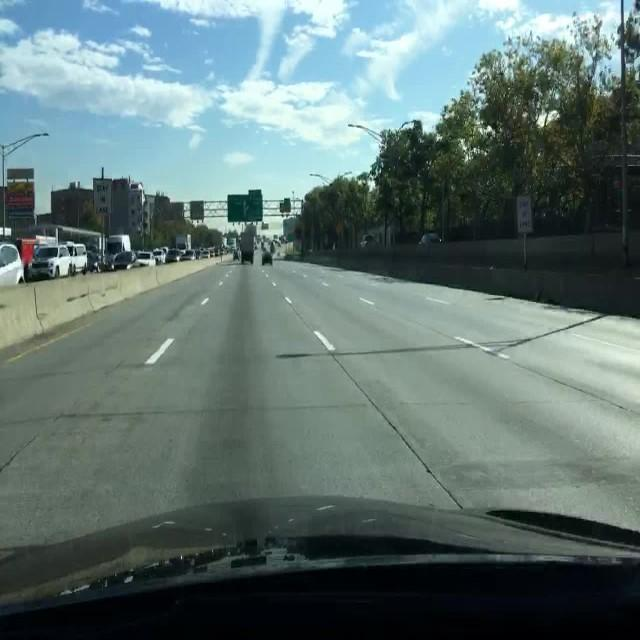normal: (232, 225, 285, 277)
